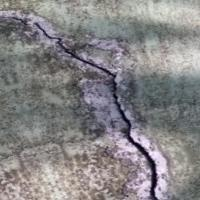crack: (0, 4, 185, 199)
